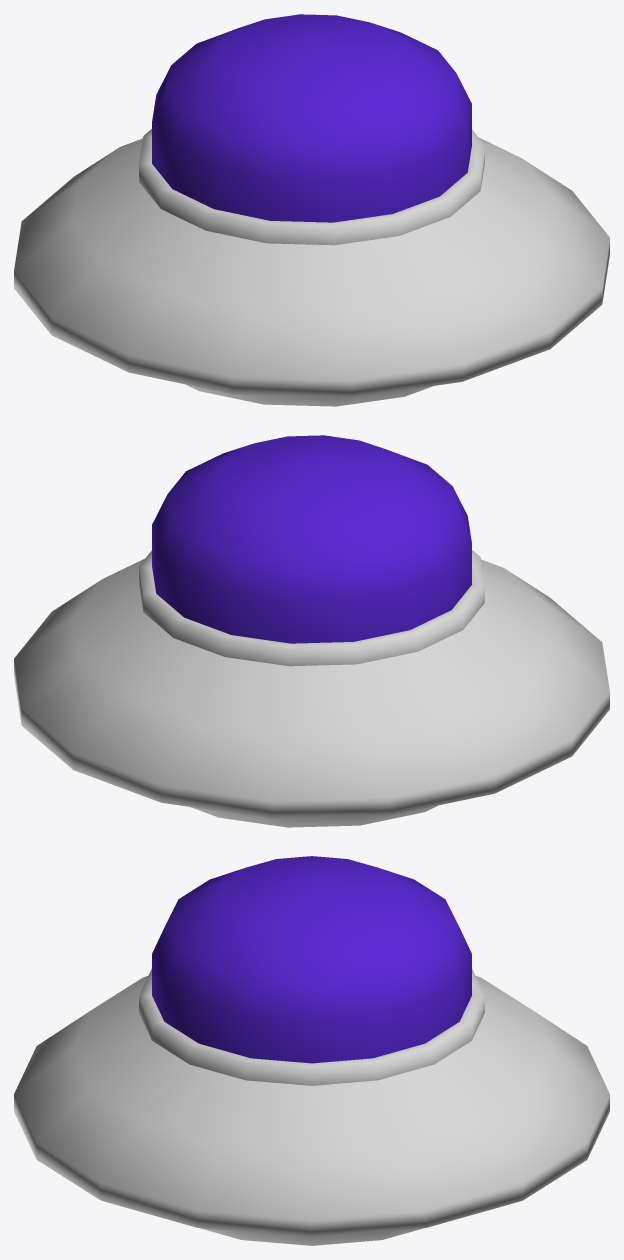
File: UFO.fbx
The picture shows the model from 3 angles, top to bottom: view 1: azimuth 30°, elevation 25°; view 2: azimuth 150°, elevation 25°; view 3: azimuth 270°, elevation 25°; orthographic projection.
Visible parts, largest first — view 1: UFO; view 2: UFO; view 3: UFO.
Part boxes in pixels (x1,y1,x2,y2): UFO: [14, 14, 609, 406]; UFO: [14, 435, 609, 827]; UFO: [14, 856, 609, 1245].
Bounding box in the file's own units: 373 × 198 × 373.
